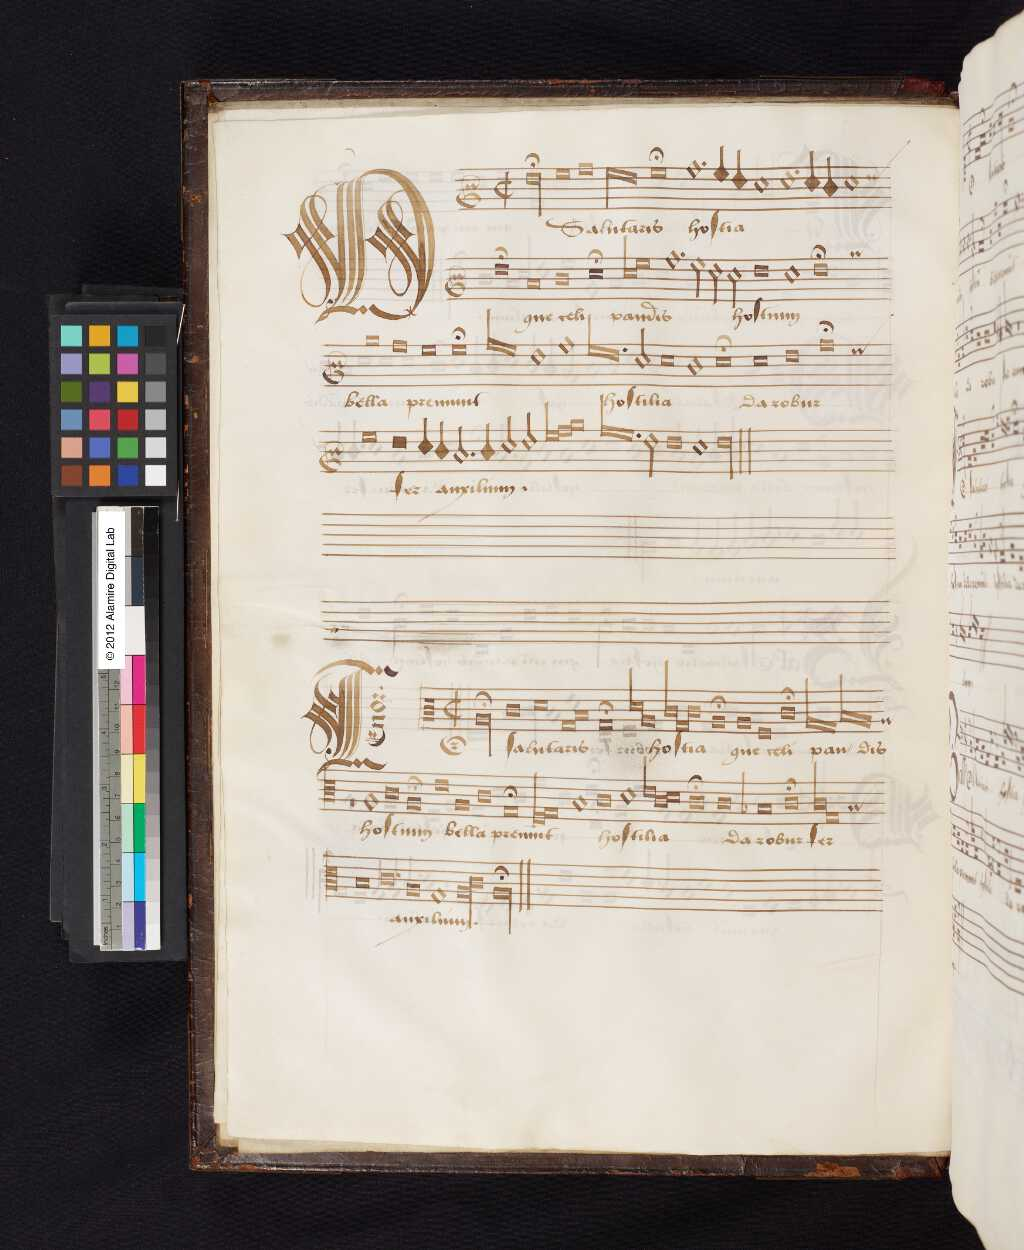breve_5: (747, 256, 773, 288), (805, 261, 838, 284), (490, 262, 512, 286)
breve_6: (582, 264, 608, 290)
breve_7: (550, 262, 574, 295)
breve_8: (522, 270, 546, 298)
custos_2: (839, 229, 873, 265)
fermata: (576, 239, 612, 269), (483, 234, 511, 263), (809, 238, 831, 265)
g clef_9: (438, 260, 471, 311)
l1semibreve_6: (619, 230, 638, 286)
l2semibreve_4: (637, 249, 654, 277)
minim_4: (688, 253, 707, 304)
minim_5: (706, 253, 723, 309)
minim_6: (725, 260, 743, 314)
point: (675, 244, 690, 264)
semibreve_3: (661, 241, 681, 277)
semibreve_6: (780, 259, 805, 293)
